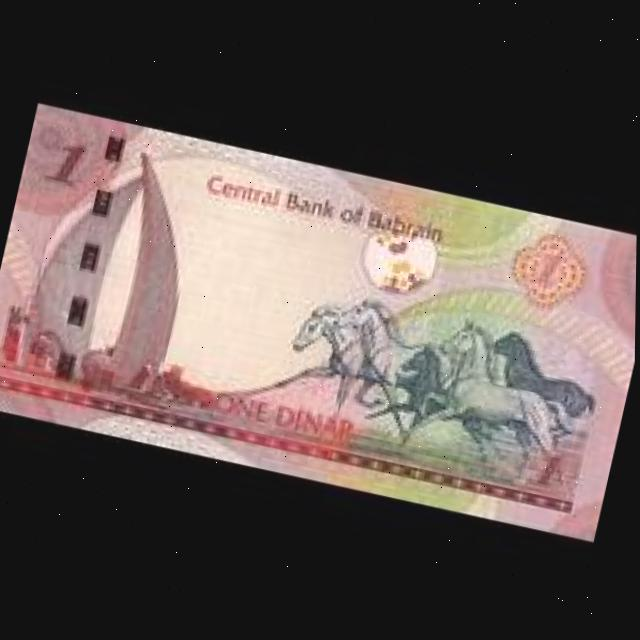banknote: (0, 100, 639, 538)
